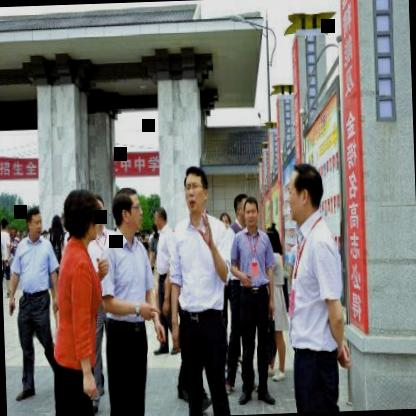head: (62, 188, 104, 247), (286, 163, 325, 224), (110, 187, 146, 238), (182, 164, 210, 218), (24, 206, 46, 244), (264, 221, 283, 258), (245, 196, 261, 232), (234, 193, 249, 229), (48, 214, 64, 247), (153, 204, 171, 232)
